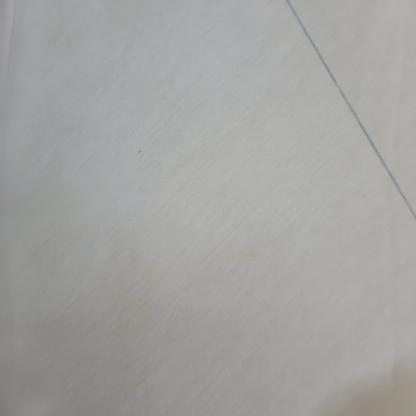spot: (229, 246, 267, 266)
